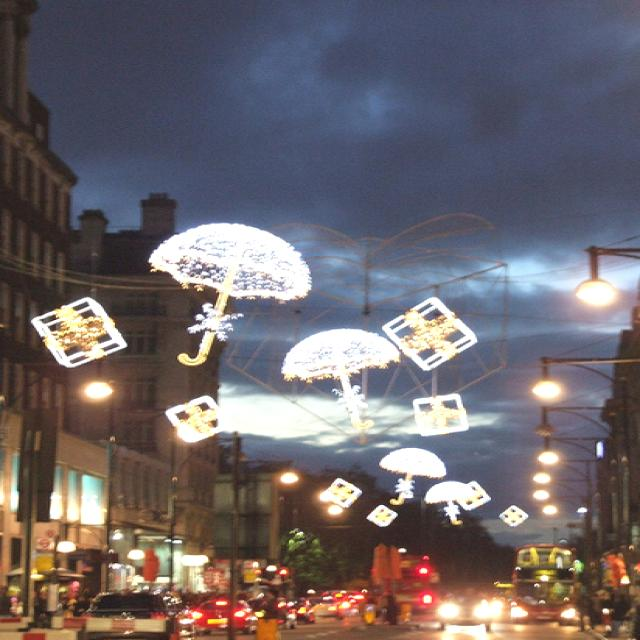Vehicle: (80, 586, 198, 640), (511, 544, 578, 622), (192, 600, 260, 634), (438, 596, 496, 632), (270, 598, 314, 624), (306, 596, 344, 620), (489, 597, 506, 623), (338, 598, 356, 610)
